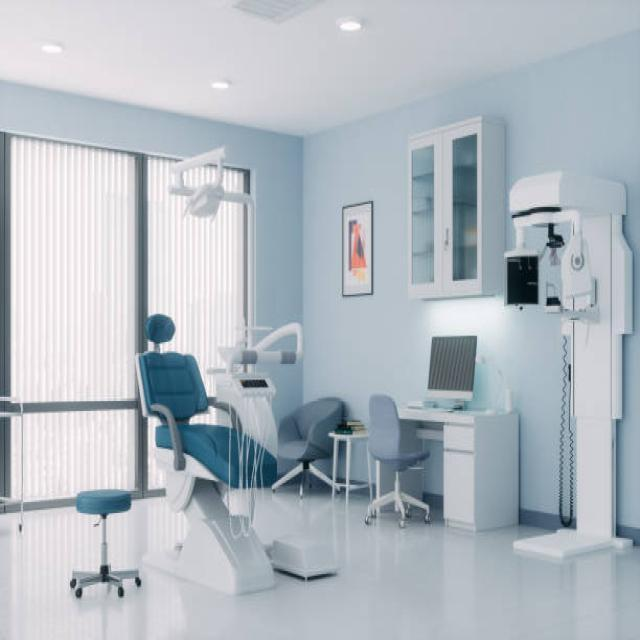Monitor: (421, 333, 491, 407), (501, 247, 551, 319)
bed: (130, 295, 290, 640)
chair: (343, 387, 443, 527)
stool: (65, 469, 150, 611)
